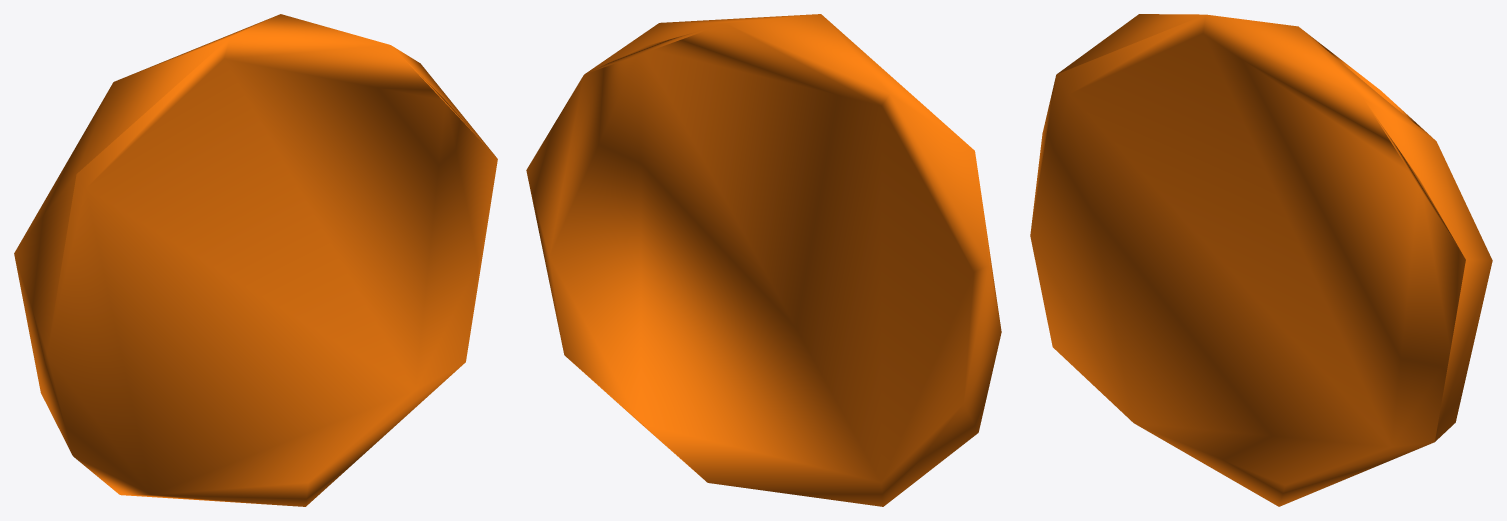
File: coin_lod2.fbx
3 views of the same model, side by side, from view 1: azimuth 30°, elevation 25°; view 2: azimuth 150°, elevation 25°; view 3: azimuth 330°, elevation 25° (orthographic). The views are drawn at different scales.
Parts seen in each view (by area): view 1: Cylinder.002; view 2: Cylinder.002; view 3: Cylinder.002.
Boxes of the visible parts, x1,y1,x2,y2 form: Cylinder.002: [14, 14, 497, 506]; Cylinder.002: [526, 14, 1001, 506]; Cylinder.002: [1030, 14, 1492, 506].
Size of the model in its own units: 199 by 18.01 by 201.
